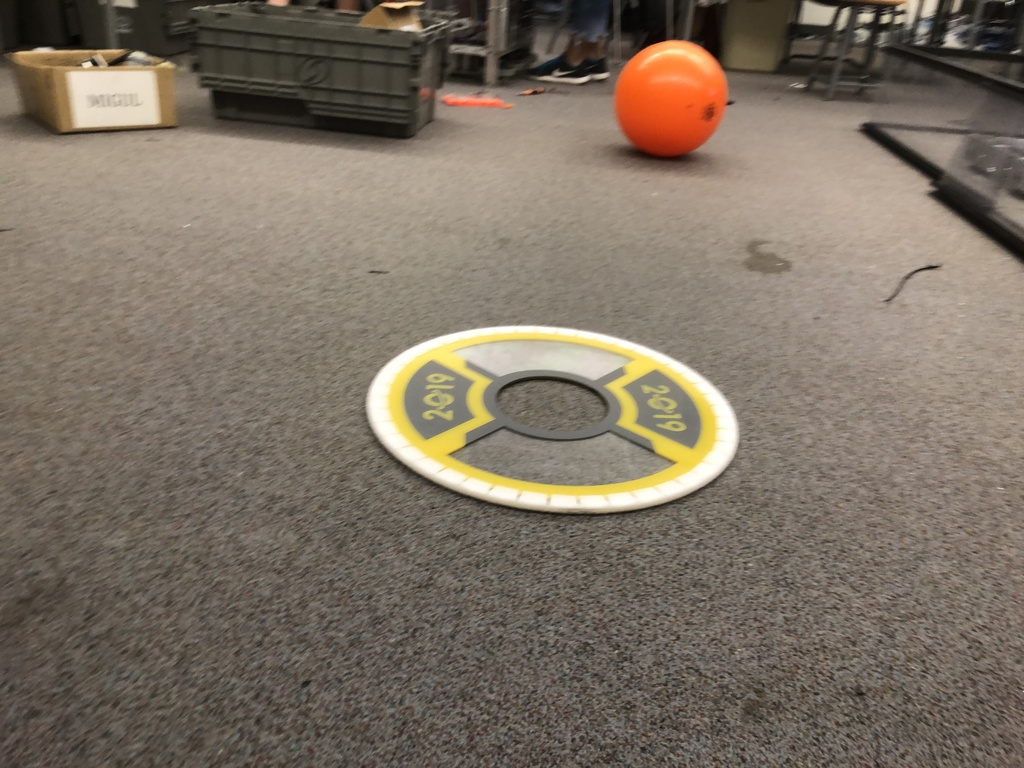hatch_panel: (354, 315, 758, 526)
